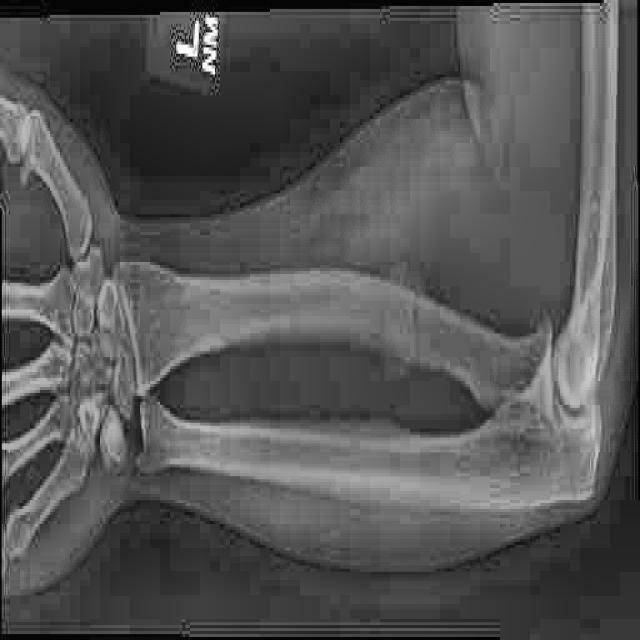forearm fracture: (384, 262, 443, 399)
